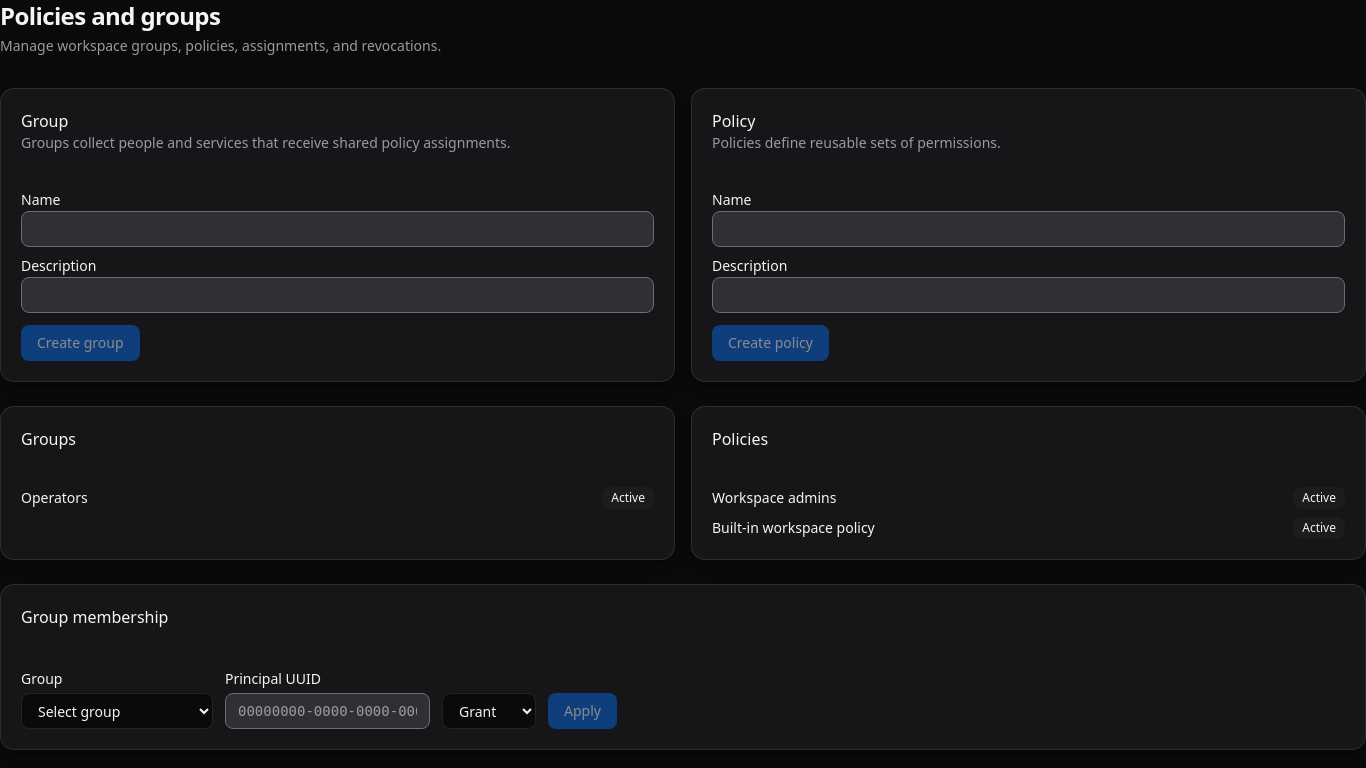
Test: WorkspaceAuthorizationPage › keeps status reads observational and uses explicit reconciliation
Select "Operators" in the dropdown labelled "Group" at [117, 711], box [21,693,213,729]
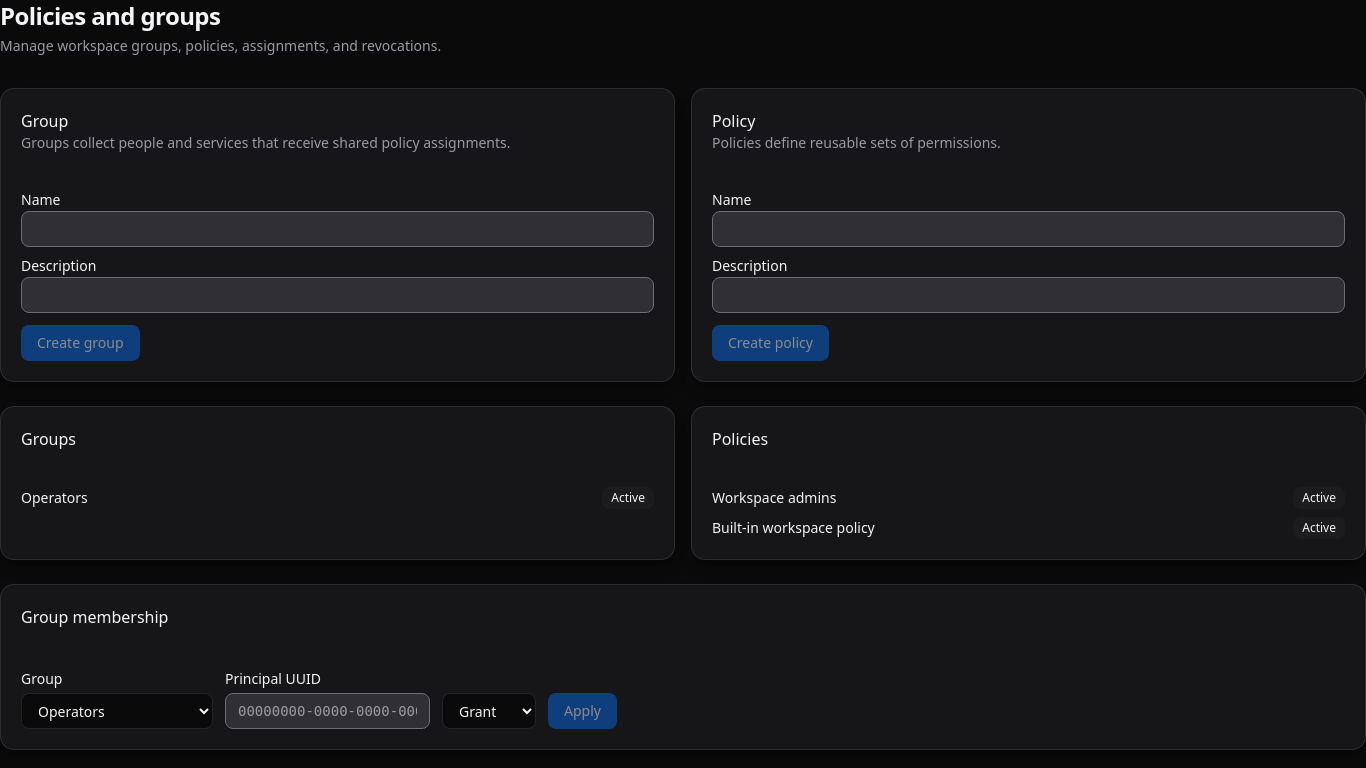
Type "55555555-5555-5555-5555-555555555555" into the field labelled "Principal UUID" at [328, 711], box [225,693,430,729]
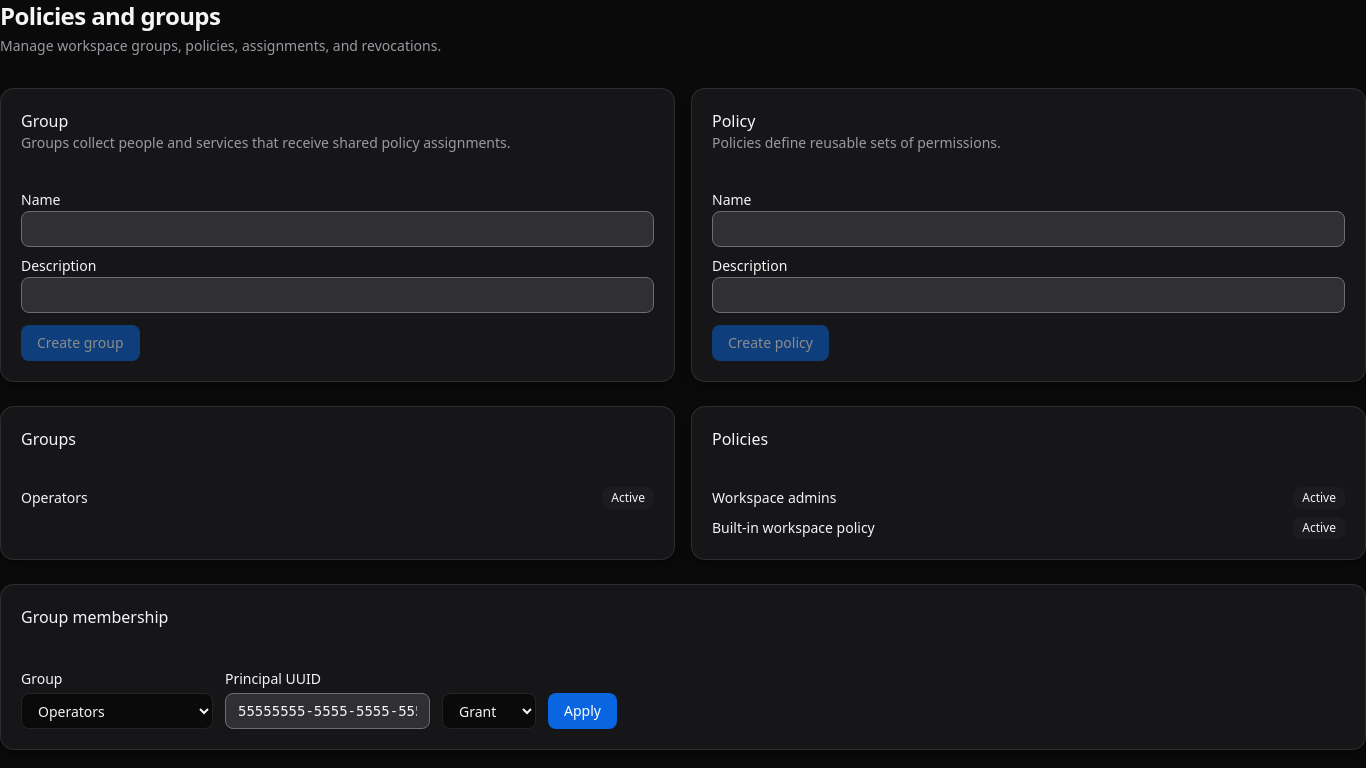
Click the button "Apply" at [582, 711], box [548,693,617,729]
(page scrolled)
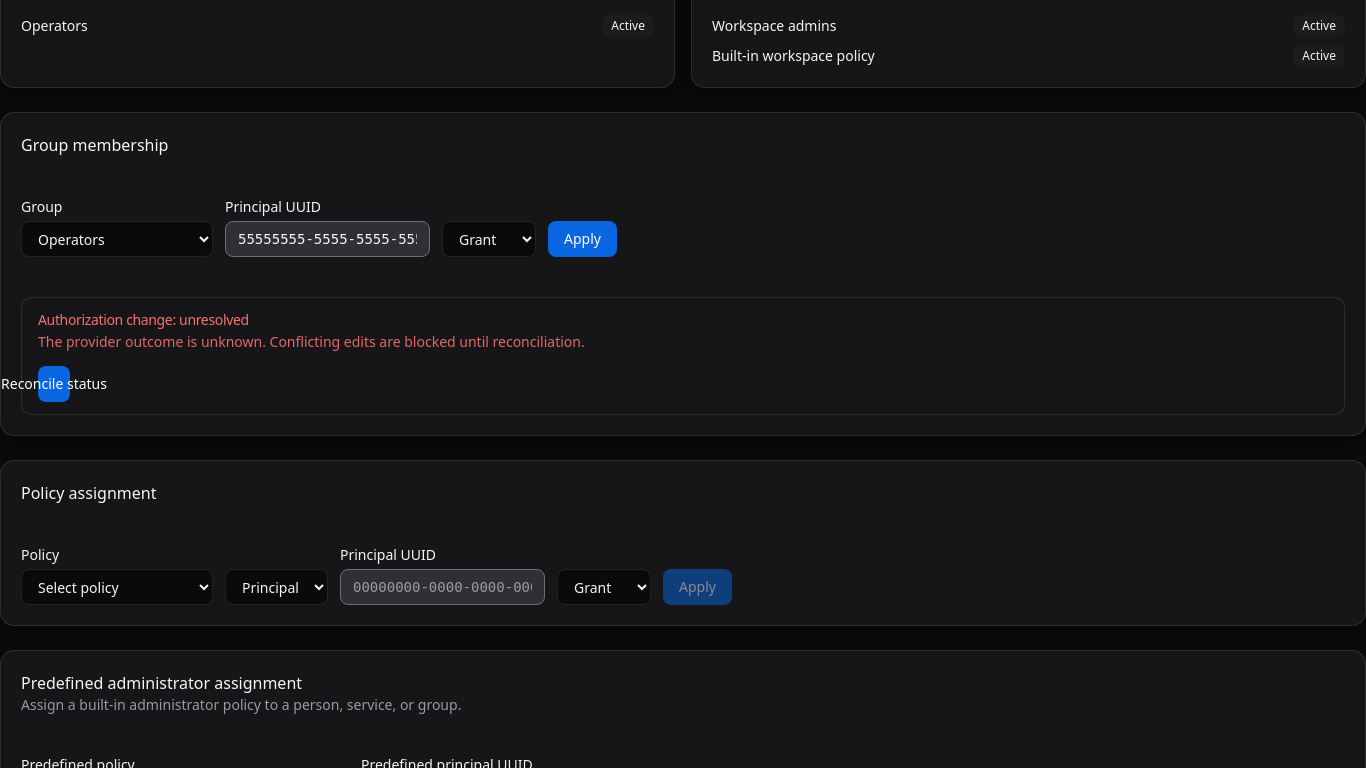
expect the text "Authorization change: unresolved" is shown: met, box [38,310,249,329]
Click the button "Reconcile status" at [54, 384], box [38,366,70,402]
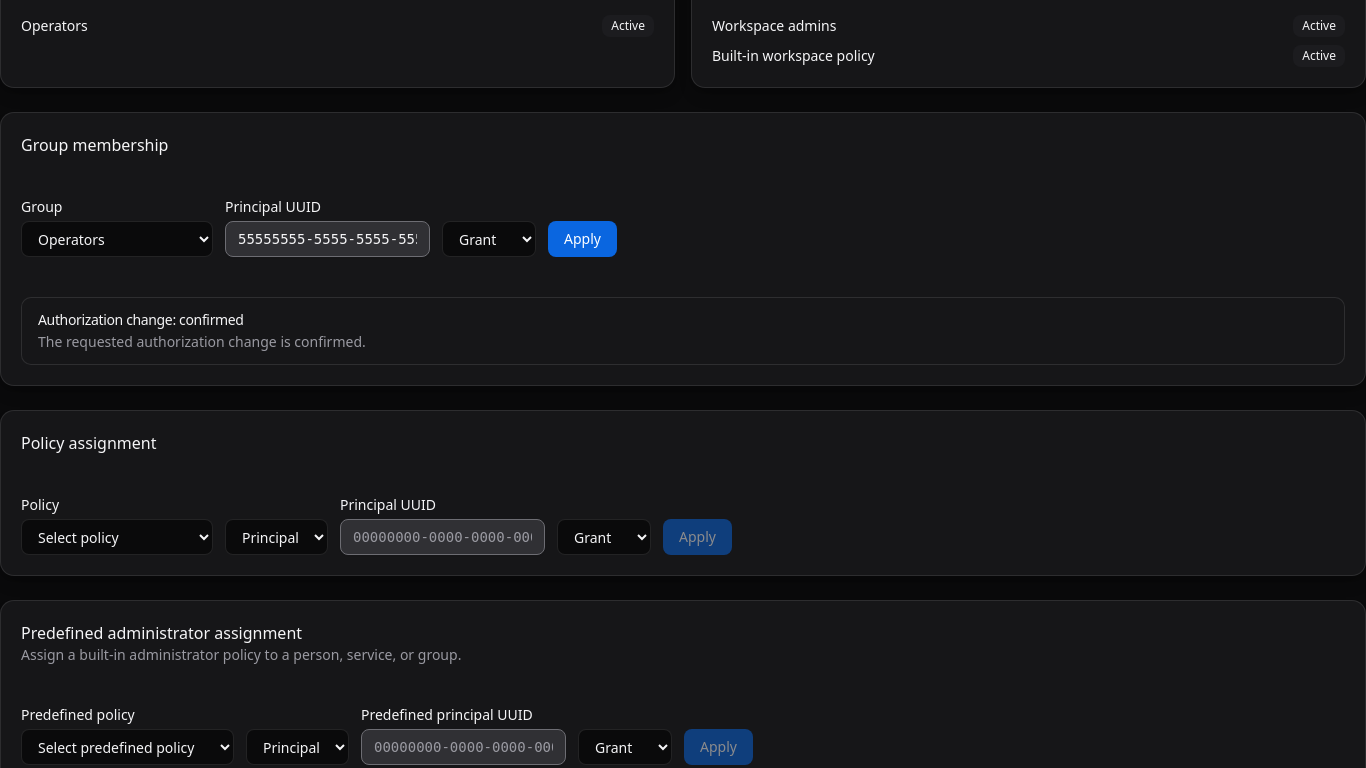
expect the text "Authorization change: confirmed" is shown: met, box [38,310,244,329]
